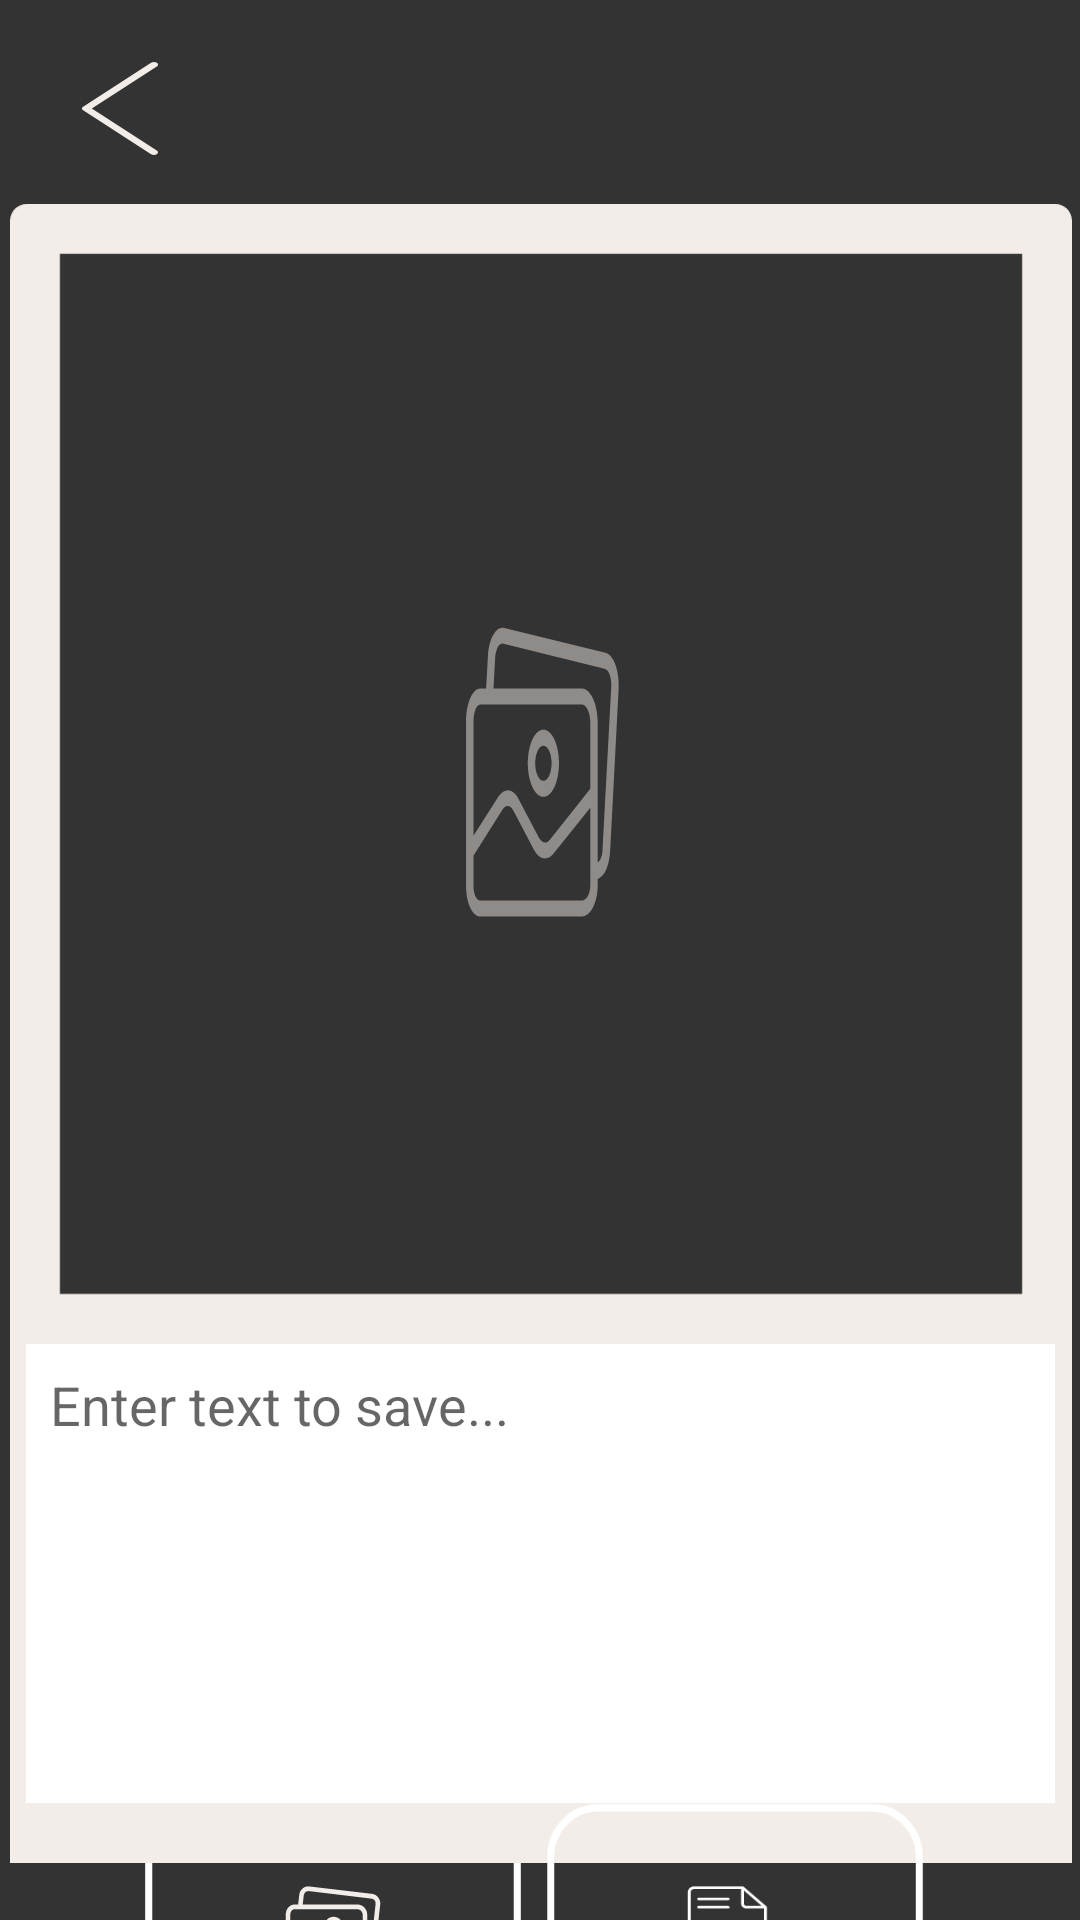

Icon bounding boxes for this 1080 x 1920 phone screenshot, format (x1, y1, x2, y2):
back: (82, 62, 158, 155)
